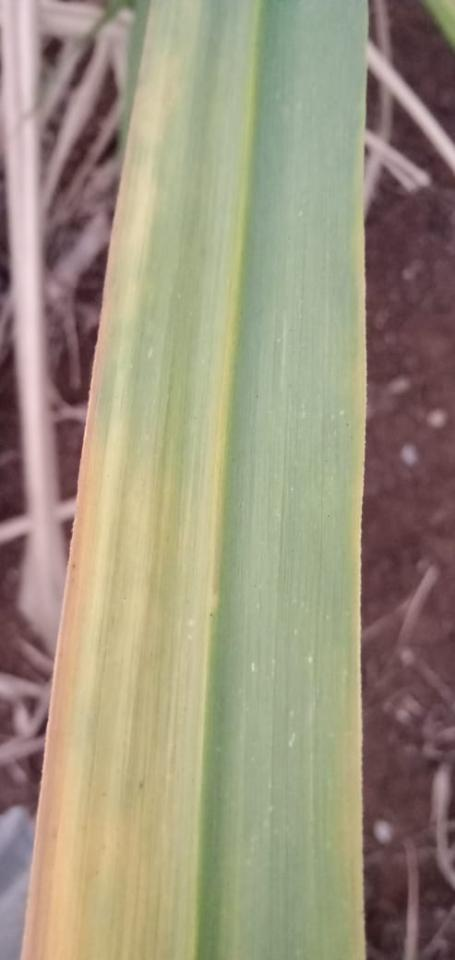Yellow: (21, 262, 113, 959)
